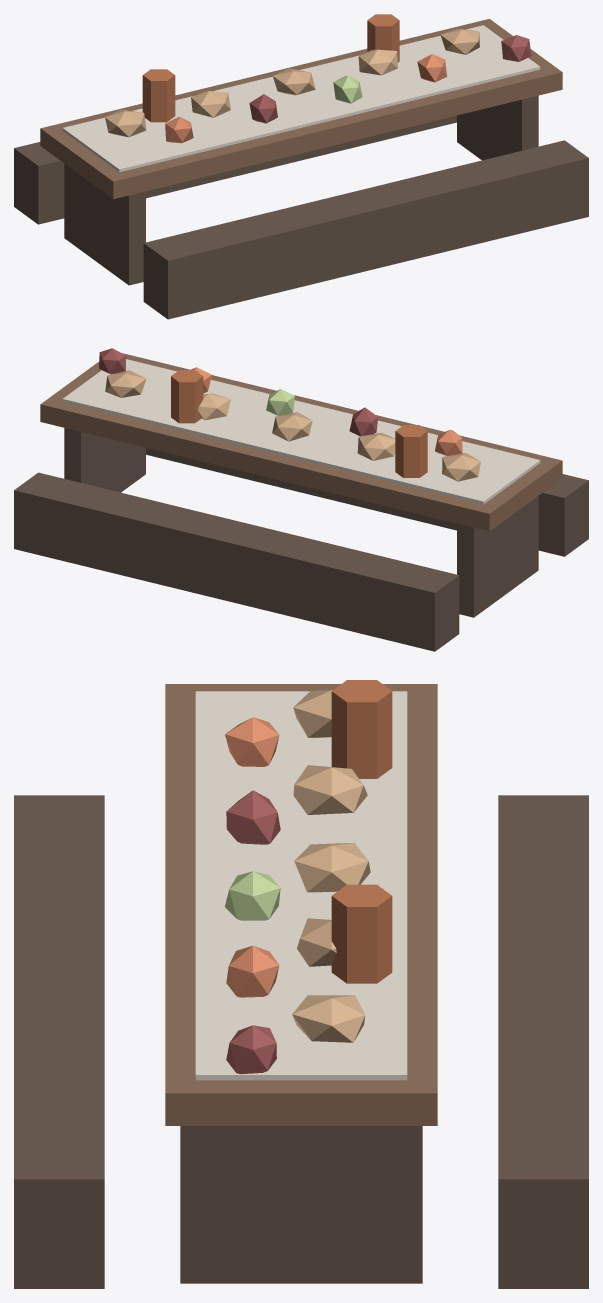
File: feast_table.glb
3 views of the same model, one above another, from view 1: azimuth 30°, elevation 25°; view 2: azimuth 150°, elevation 25°; view 3: azimuth 270°, elevation 25° (orthographic). The views are drawn at different scales.
Parts seen in each view (by area): view 1: bench-1, cloth, table, leg0, bench1, leg1, detail_jug0, detail_jug1, detail_bread0, detail_bread2, detail_bread3, detail_bread1 (+6 smaller); view 2: bench1, cloth, table, leg0, bench-1, leg1, detail_jug0, detail_jug1, detail_bread0, detail_bread2, detail_bread1, detail_bread4 (+5 smaller); view 3: cloth, bench1, bench-1, leg1, table, detail_jug1, detail_jug0, detail_bread2, detail_bread1, detail_bread4, detail_fruit1, detail_fruit2 (+5 smaller).
Part boxes in pixels (box(x1,y1,x2,y2)): bench-1: box(143, 140, 588, 319); cloth: box(62, 25, 540, 172); table: box(40, 19, 562, 199); leg0: box(64, 163, 145, 285); bench1: box(14, 115, 456, 224); leg1: box(457, 95, 538, 160); detail_jug0: box(142, 69, 175, 122); detail_jug1: box(367, 14, 399, 62); detail_bread0: box(105, 109, 146, 137); detail_bread2: box(273, 68, 315, 95); detail_bread3: box(358, 49, 397, 75); detail_bread1: box(191, 90, 230, 117); bench1: box(14, 472, 459, 651); cloth: box(62, 359, 540, 504); table: box(40, 353, 562, 531); leg0: box(457, 496, 538, 617); bench-1: box(146, 448, 588, 556); leg1: box(64, 428, 145, 492); detail_jug0: box(395, 425, 427, 477); detail_jug1: box(171, 370, 203, 423); detail_bread0: box(442, 453, 480, 481); detail_bread2: box(272, 412, 312, 441); detail_bread1: box(357, 433, 395, 460); detail_bread4: box(105, 370, 146, 397); cloth: box(195, 691, 407, 1080); bench1: box(498, 795, 588, 1288); bench-1: box(14, 795, 104, 1288); leg1: box(180, 1126, 422, 1283); table: box(165, 684, 437, 1125); detail_jug1: box(331, 884, 392, 983); detail_jug0: box(331, 680, 392, 778); detail_bread2: box(294, 842, 370, 892); detail_bread1: box(293, 765, 367, 814); detail_bread4: box(292, 995, 365, 1042); detail_fruit1: box(226, 790, 280, 844); detail_fruit2: box(225, 871, 280, 920).
Size of the model in its own units: 1.6 by 0.53 by 0.95.
